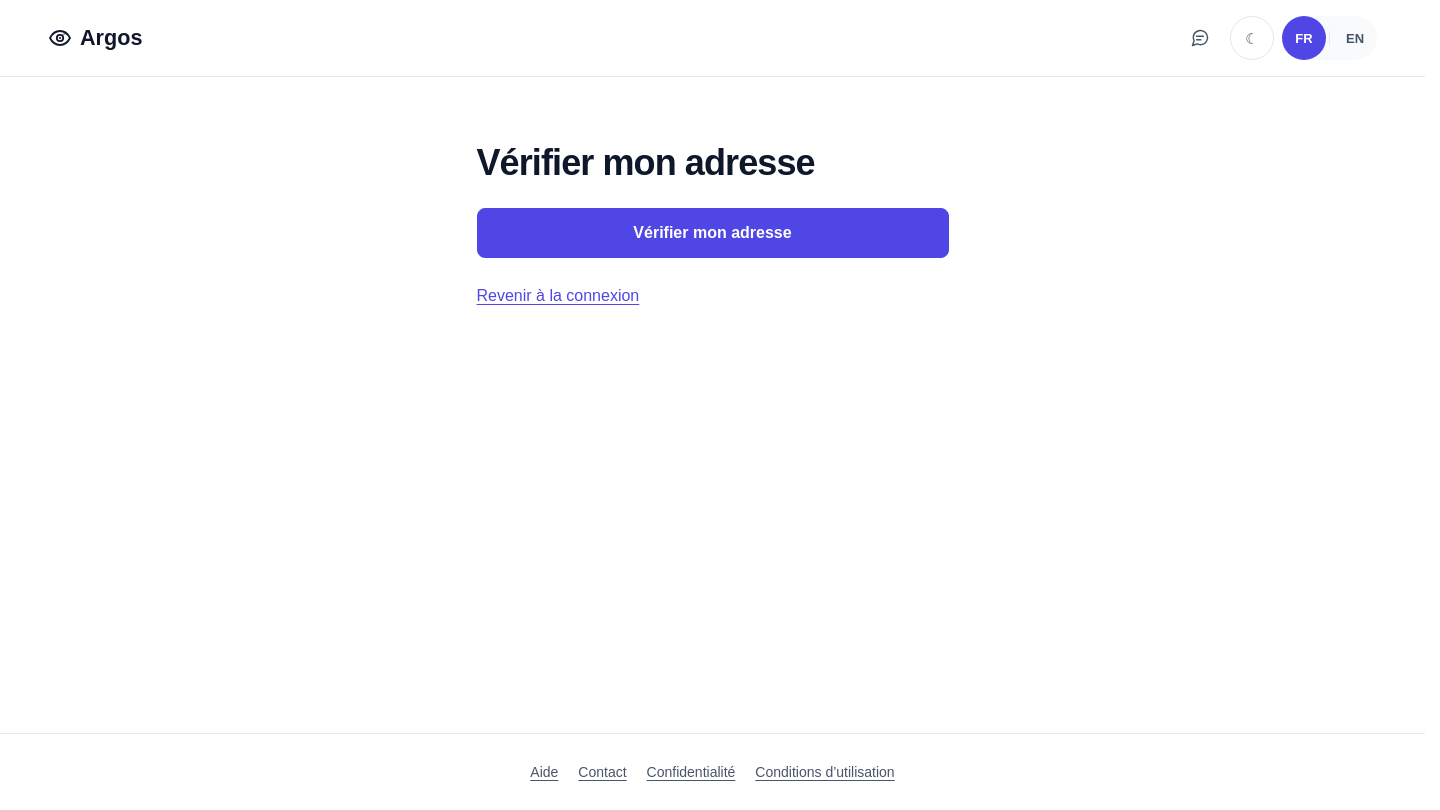
it: keeps a scrubbed verification token and localizes context in language links until it is consumed
Click the button "Vérifier mon adresse" at (712, 233), box [476, 208, 948, 258]
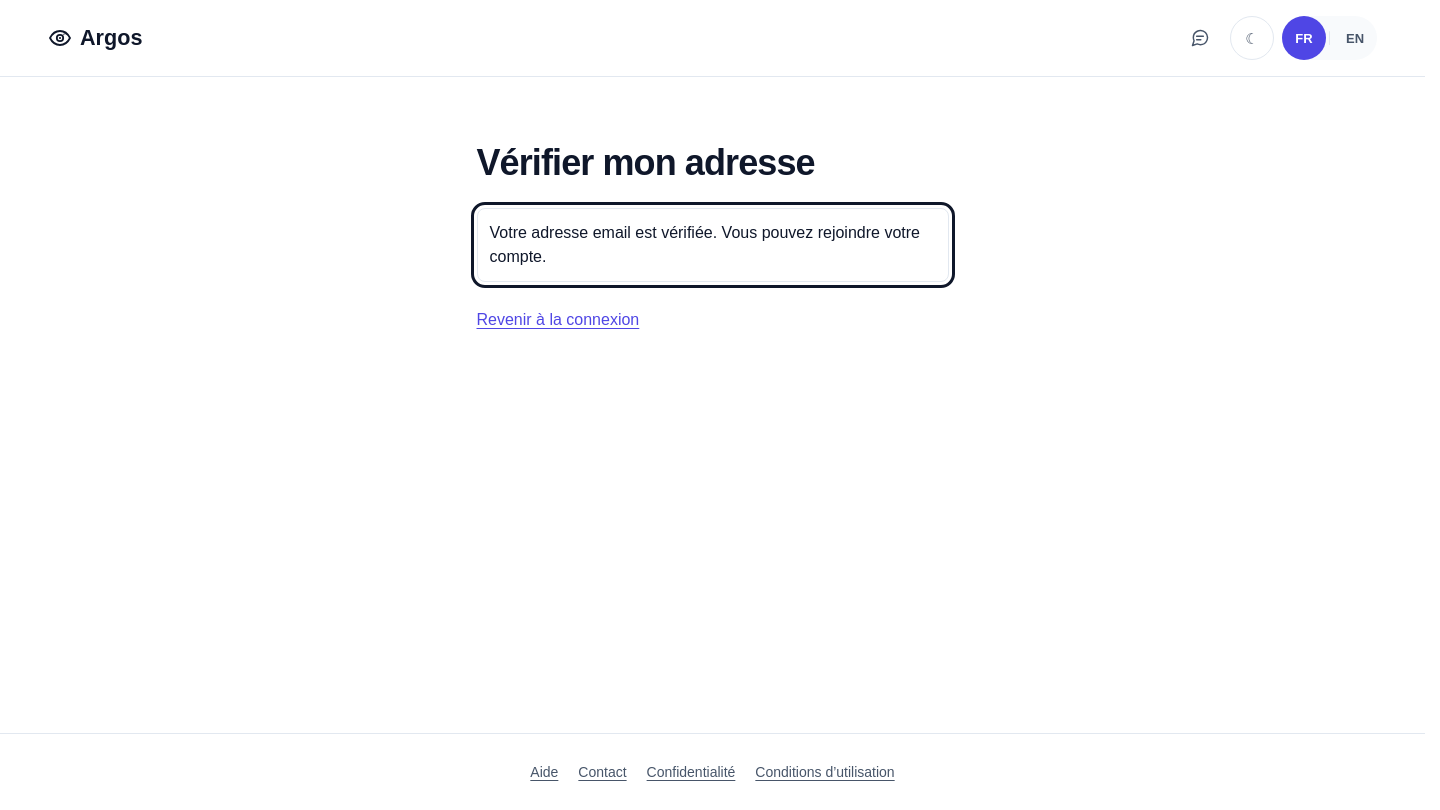
Expected: the message reads "Votre adresse email est vérifiée. Vous pouvez rejoindre votre compte.", [490, 224, 920, 265]
